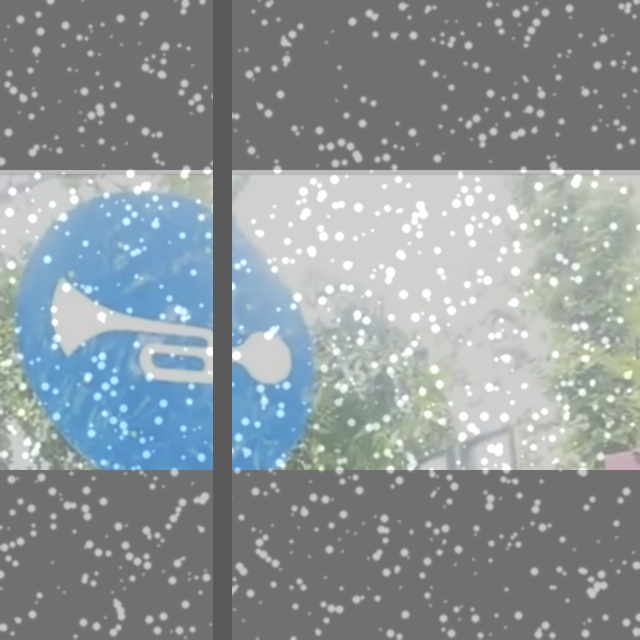Compulsory_Sound_Horn: (29, 197, 322, 462)
